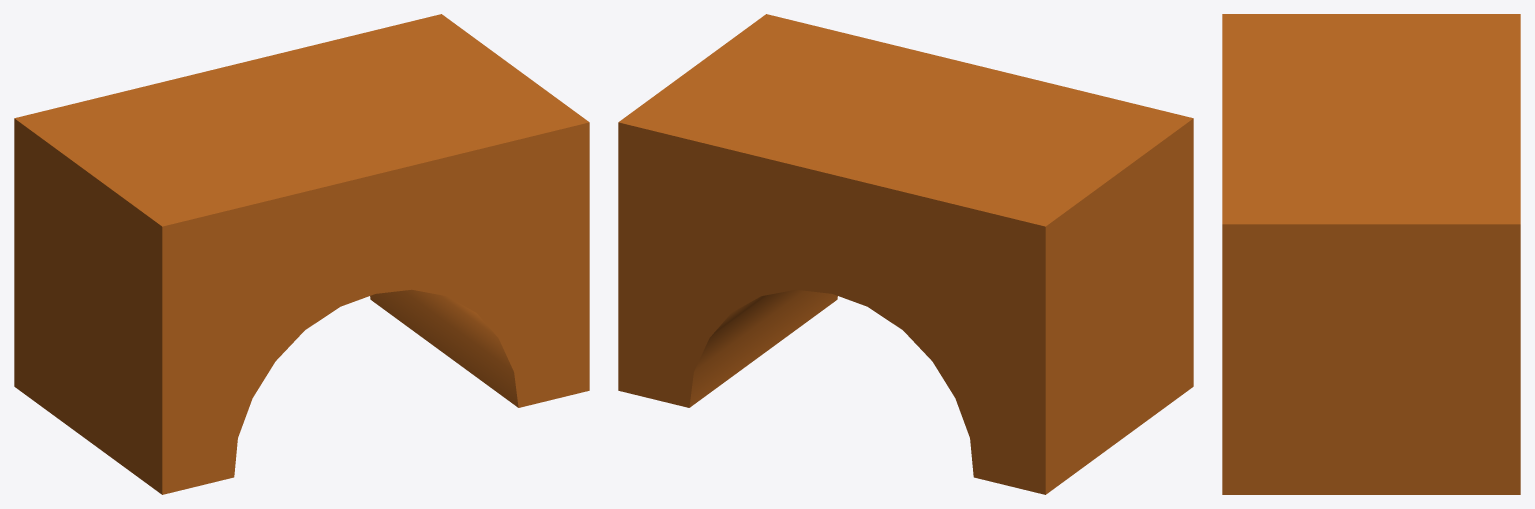
The model's file is arch1.fbx.
The picture shows the model from 3 angles, left to right: view 1: azimuth 30°, elevation 25°; view 2: azimuth 150°, elevation 25°; view 3: azimuth 270°, elevation 25°; orthographic projection.
Parts seen in each view (by area): view 1: pPlane1; view 2: pPlane1; view 3: pPlane1.
Boxes of the visible parts, bbox=[...] form: pPlane1: bbox=[14, 14, 589, 494]; pPlane1: bbox=[618, 14, 1193, 494]; pPlane1: bbox=[1222, 14, 1520, 494].
Bounding box in the file's own units: 2.5 × 1.5 × 1.5.
